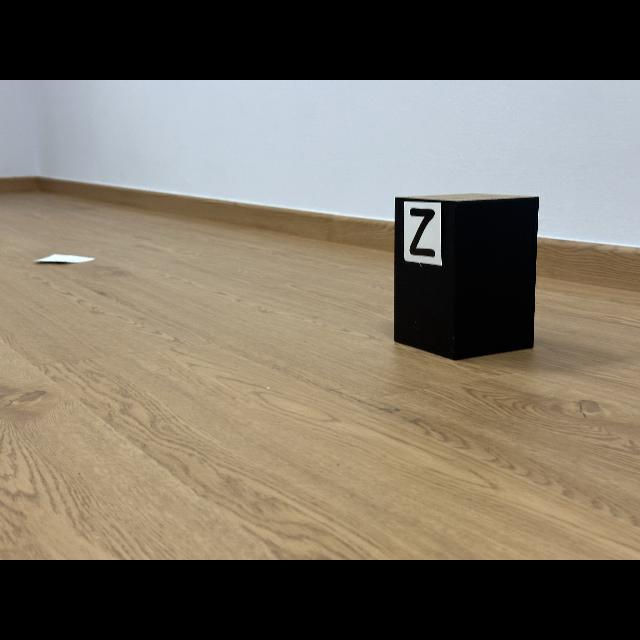Z: (409, 208, 435, 258)
